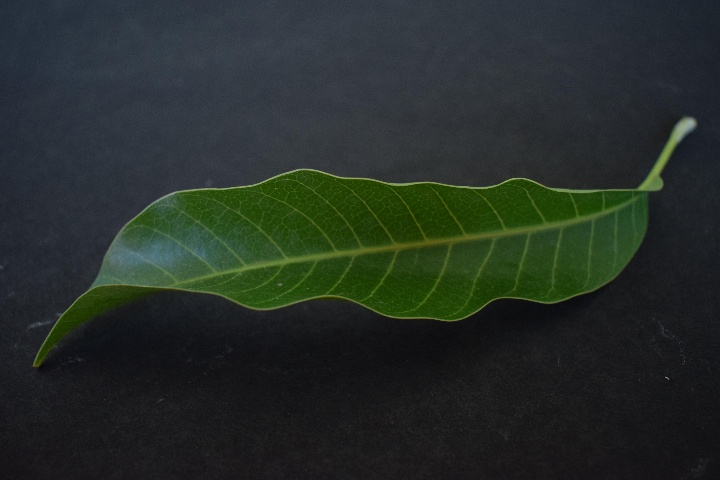healthy: (61, 168, 667, 357)
